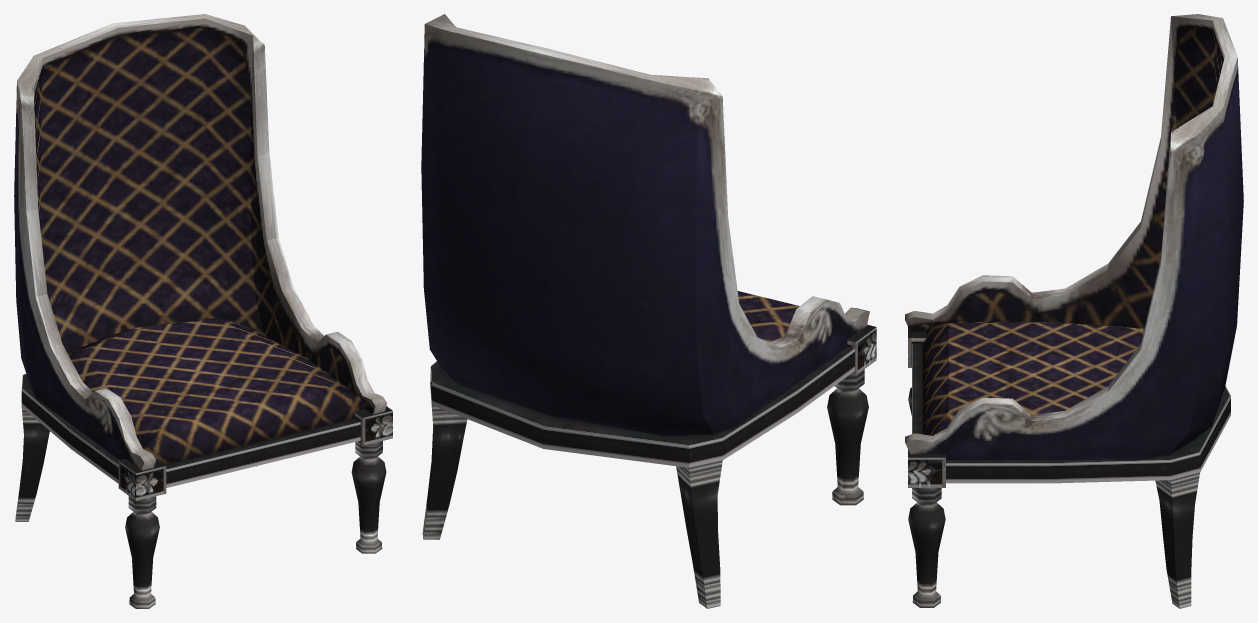
File: furni_0201206.FBX
The picture shows the model from 3 angles, left to right: view 1: azimuth 30°, elevation 25°; view 2: azimuth 150°, elevation 25°; view 3: azimuth 270°, elevation 25°; orthographic projection. The views are drawn at different scales.
Visible parts, largest first — view 1: furni_0201206; view 2: furni_0201206; view 3: furni_0201206.
Boxes of the visible parts, x1=… form: furni_0201206: x1=14, y1=14, x2=392, y2=608; furni_0201206: x1=421, y1=14, x2=876, y2=608; furni_0201206: x1=905, y1=14, x2=1243, y2=608.
Bounding box in the file's own units: 74.26 × 124 × 78.2.
1 material, 1 textured.
